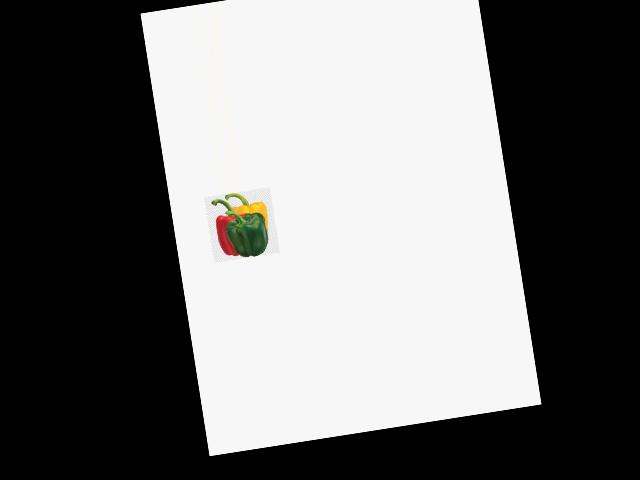bell_pepper: (204, 193, 251, 260)
